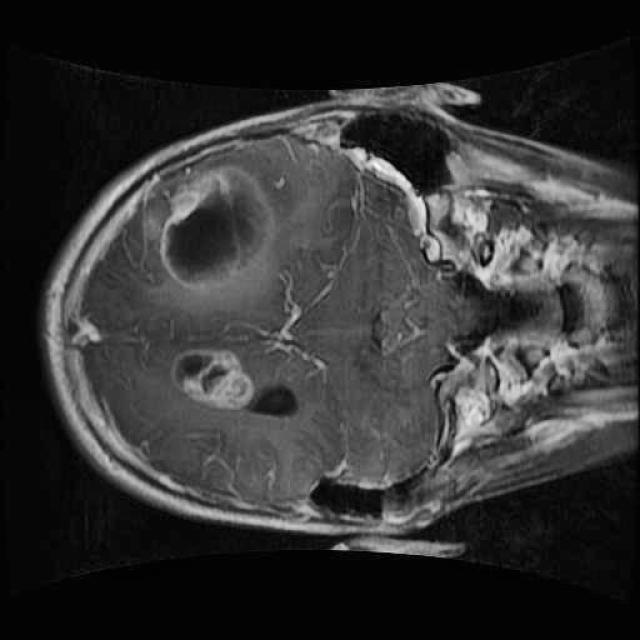Tumor: (143, 151, 286, 299)
